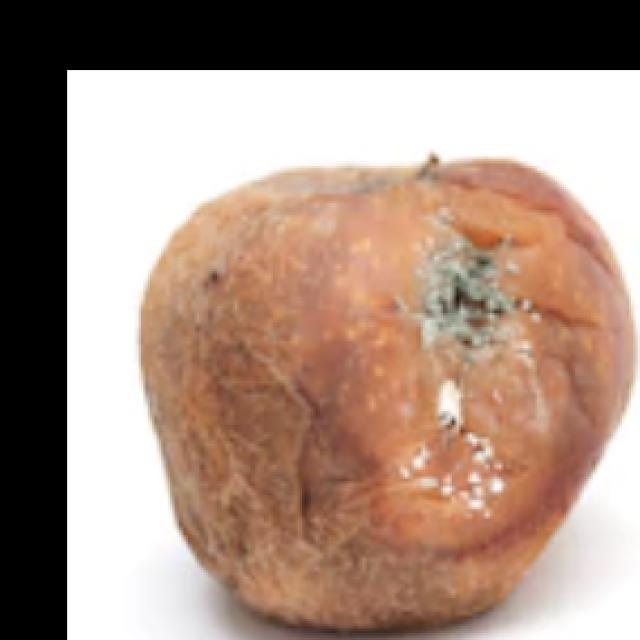Rotten: (132, 168, 616, 624)
